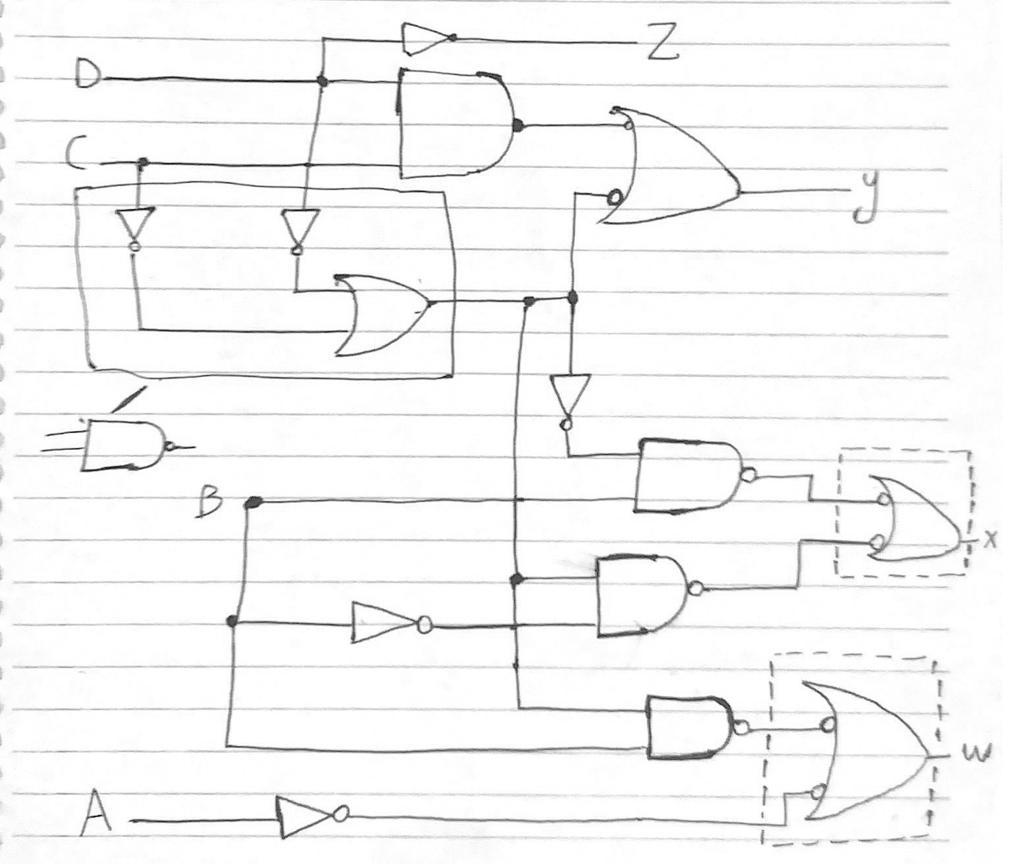NAND: (383, 68, 548, 186), (630, 418, 769, 526), (585, 537, 721, 646), (635, 675, 763, 771), (68, 403, 182, 484)
NOT: (262, 777, 370, 849), (347, 585, 444, 655), (547, 368, 608, 441), (272, 198, 333, 264), (108, 200, 171, 263), (390, 15, 465, 64)
OR: (587, 93, 765, 247), (797, 663, 932, 821), (858, 462, 971, 577), (322, 268, 440, 366)
